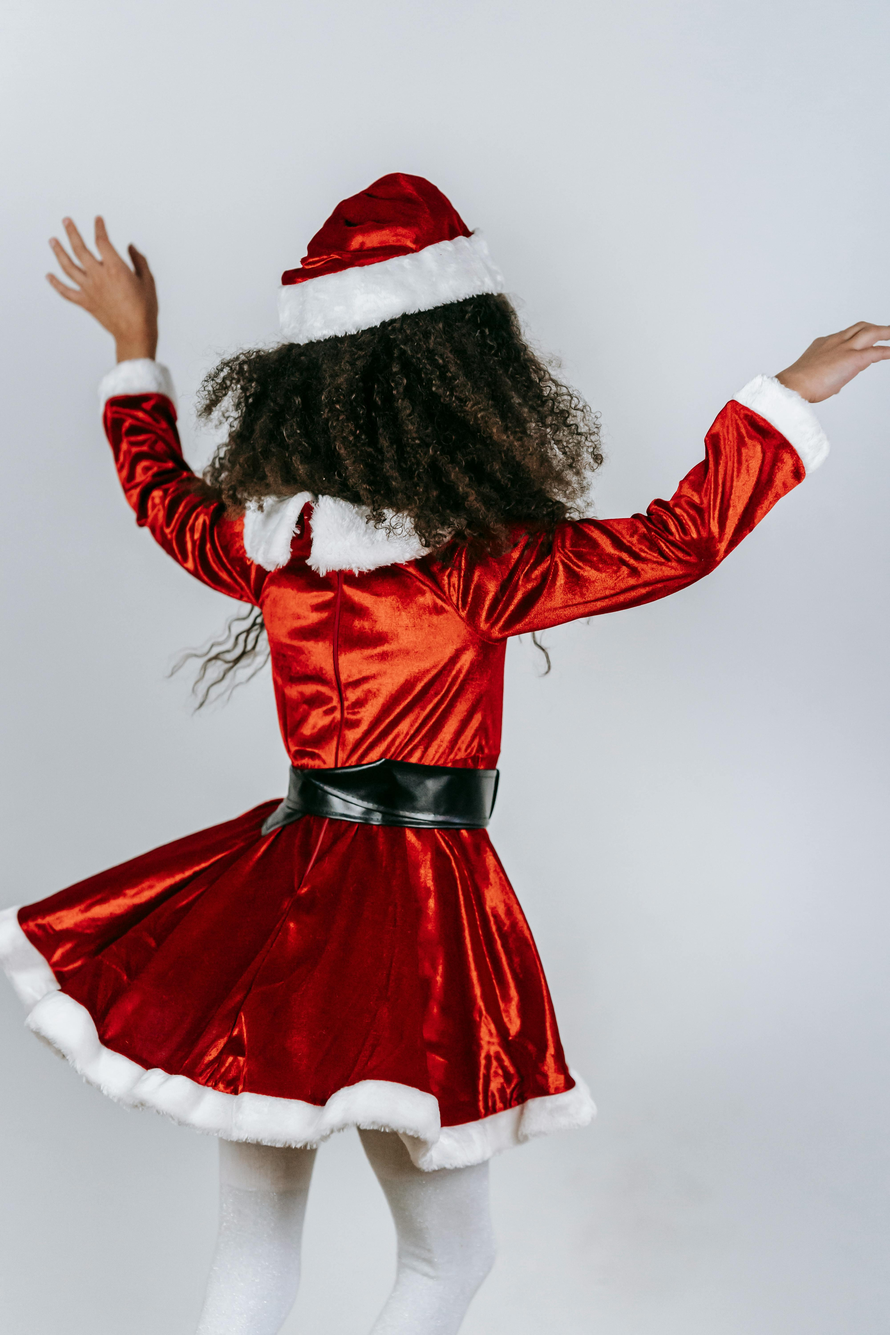Human: (41, 174, 783, 1309)
